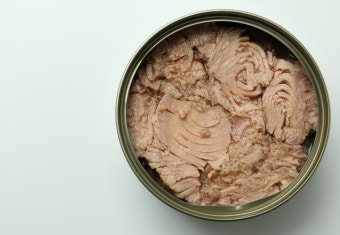paper: (112, 9, 334, 224)
